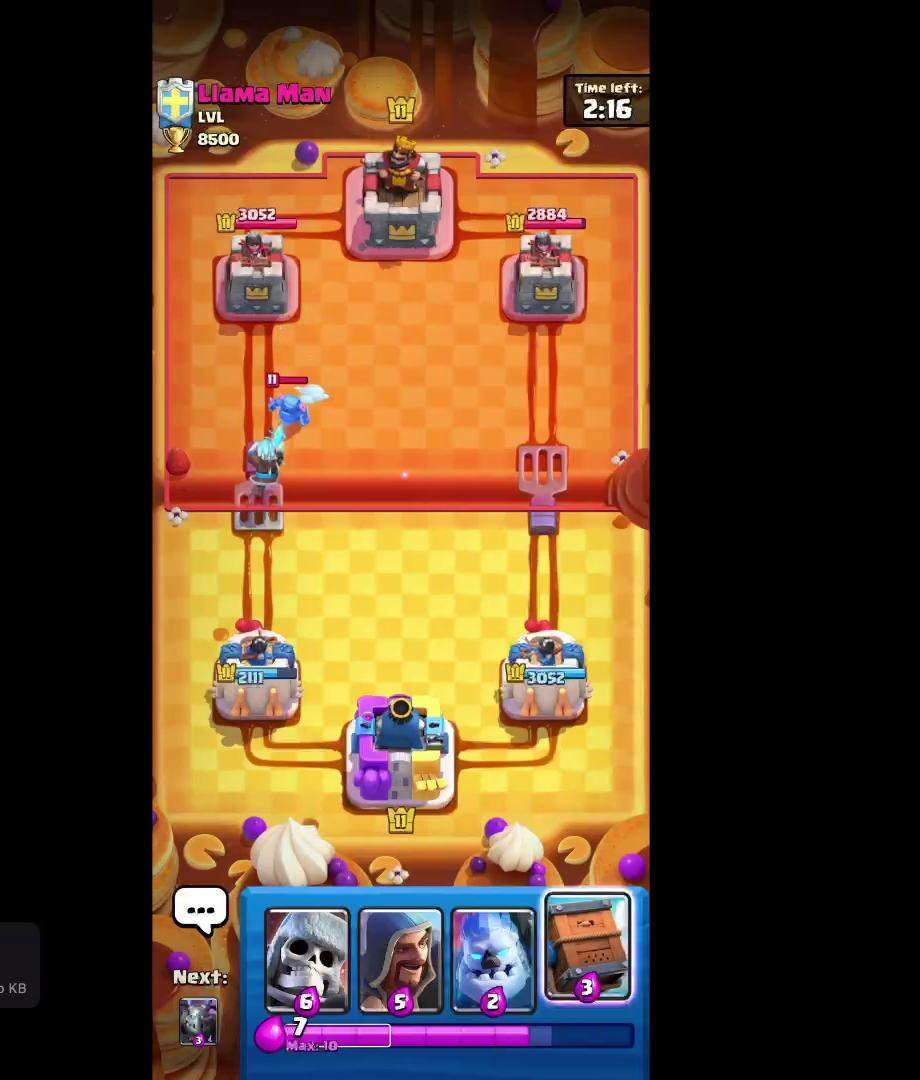Mini Pekka: (260, 361, 323, 443)
